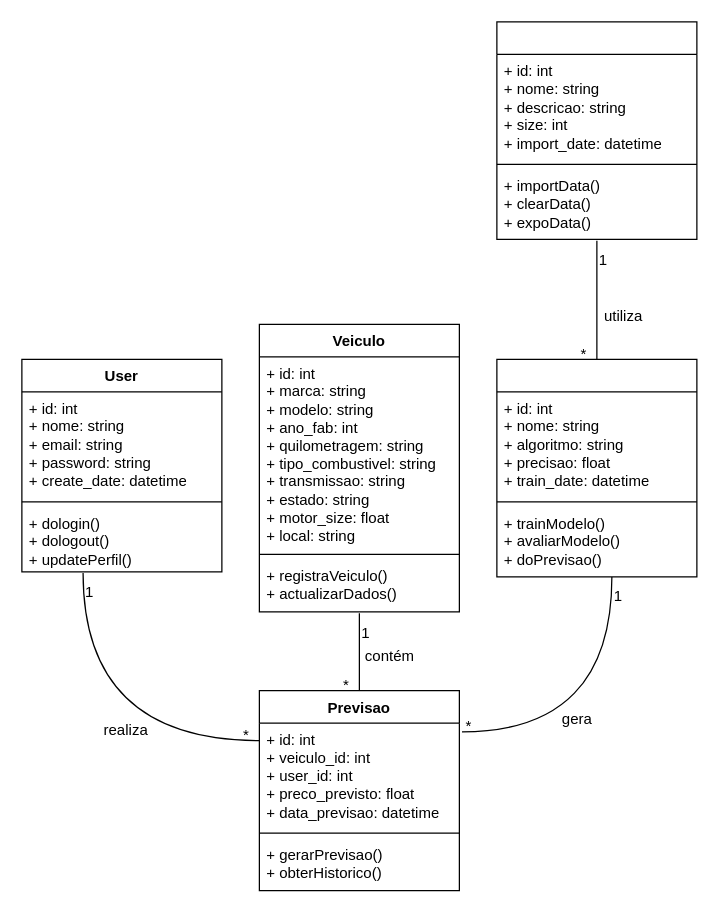
This 719x916 diagram has some shape labels left out. Here are the shapes that lost their labels. From the top down, the box of each, then its label:
(496, 21, 697, 239): Dataser
(496, 358, 697, 577): ModeloML
